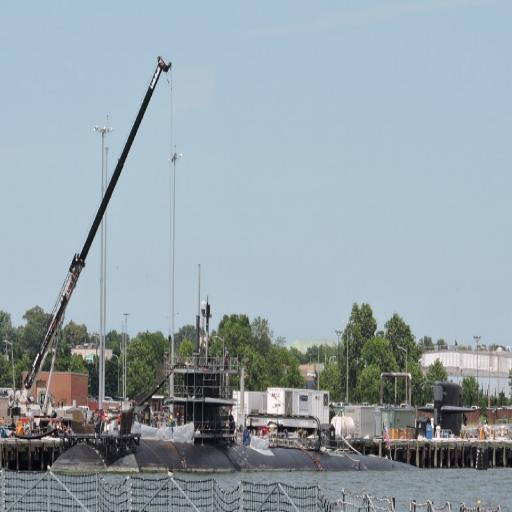submarine: (52, 359, 418, 473)
